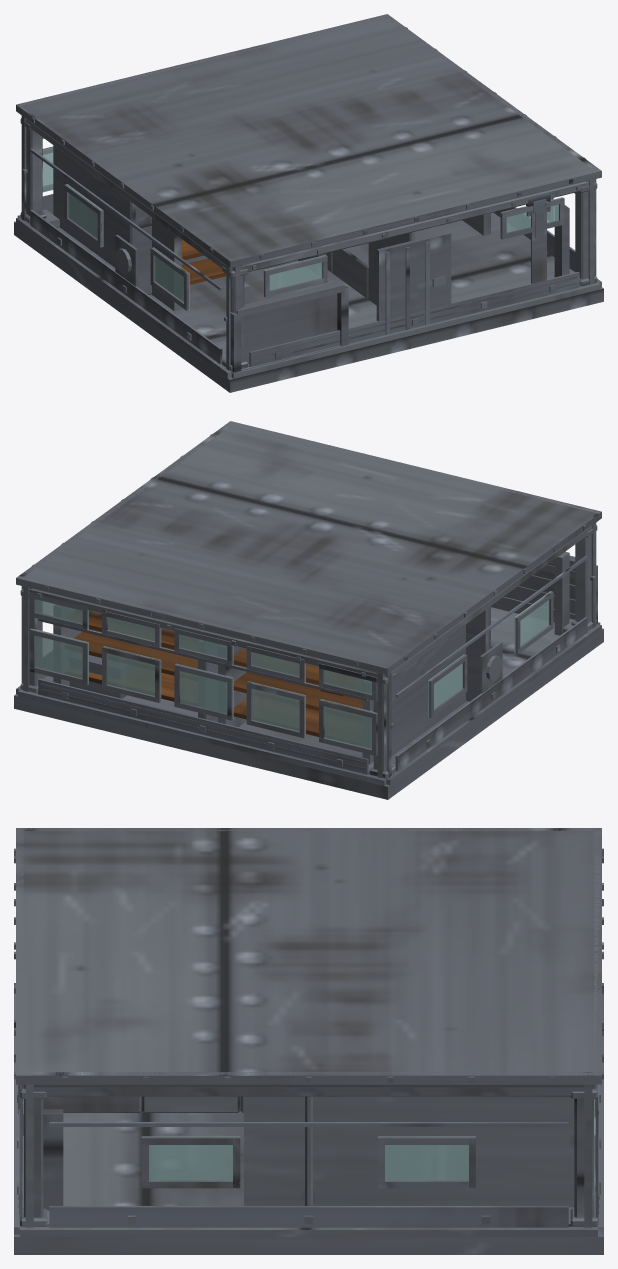
3 views of the same model, one above another, from view 1: azimuth 30°, elevation 25°; view 2: azimuth 150°, elevation 25°; view 3: azimuth 270°, elevation 25° (orthographic). The views are drawn at different scales.
Parts seen in each view (by area): view 1: SM_HDBF_BoxFarm_Top_LOD0; view 2: SM_HDBF_BoxFarm_Top_LOD0; view 3: SM_HDBF_BoxFarm_Top_LOD0.
Boxes of the visible parts, <box> form: SM_HDBF_BoxFarm_Top_LOD0: <box>14,14,603,392</box>; SM_HDBF_BoxFarm_Top_LOD0: <box>14,421,603,799</box>; SM_HDBF_BoxFarm_Top_LOD0: <box>14,828,603,1254</box>.
Size of the model in its own units: 3 by 1 by 3.
Materials: 4 (4 with a texture image).
